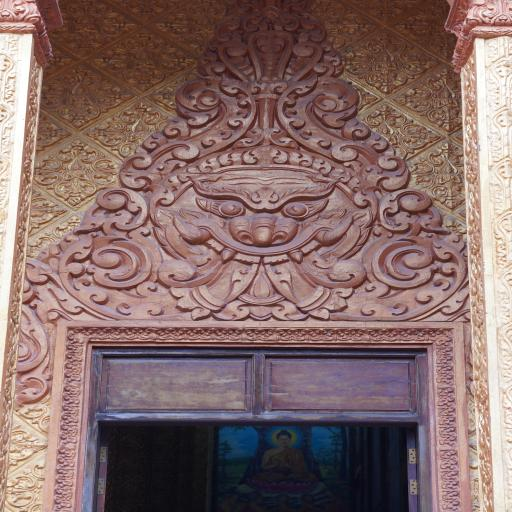la: (18, 302, 51, 376), (10, 423, 46, 464), (13, 372, 50, 406), (34, 116, 72, 149), (363, 71, 412, 94), (93, 44, 133, 72), (120, 66, 166, 90), (4, 476, 38, 508), (55, 138, 100, 162), (30, 198, 68, 226), (118, 99, 162, 123), (54, 180, 96, 205), (58, 103, 102, 126), (424, 108, 470, 130), (158, 46, 194, 74), (63, 63, 103, 88), (402, 122, 439, 149), (88, 120, 126, 146), (63, 32, 107, 54), (122, 30, 166, 52), (95, 82, 132, 108), (31, 156, 62, 187), (99, 11, 138, 35), (365, 104, 407, 126), (430, 186, 472, 208), (397, 86, 432, 112), (90, 157, 122, 185), (362, 0, 411, 18), (366, 33, 406, 55), (426, 143, 466, 165), (426, 35, 464, 58), (157, 13, 193, 37), (0, 0, 39, 22), (398, 12, 427, 41), (427, 68, 463, 91), (126, 0, 170, 18), (342, 13, 375, 37), (401, 50, 434, 74), (342, 48, 371, 75), (27, 236, 59, 260), (185, 0, 229, 17), (52, 214, 83, 238), (44, 45, 72, 71), (152, 85, 182, 109), (308, 0, 348, 18), (66, 0, 108, 17), (408, 162, 436, 186), (49, 10, 72, 38), (40, 83, 66, 107), (425, 0, 456, 18), (186, 33, 216, 51), (19, 404, 49, 421), (442, 488, 461, 512), (436, 376, 456, 396), (435, 364, 453, 382), (443, 466, 457, 488), (441, 450, 457, 469), (119, 142, 139, 157), (233, 328, 258, 340), (354, 330, 379, 342), (267, 328, 288, 342), (438, 388, 454, 406), (437, 399, 455, 415), (439, 439, 455, 457), (323, 330, 349, 341), (190, 328, 210, 342), (338, 330, 361, 342), (439, 417, 456, 433), (438, 347, 453, 365), (65, 350, 84, 364), (205, 328, 224, 342), (173, 328, 195, 340), (280, 329, 302, 341), (298, 329, 320, 341), (309, 330, 333, 341), (386, 330, 408, 342), (440, 430, 456, 446), (439, 408, 454, 425), (328, 34, 346, 48), (144, 328, 166, 339), (402, 330, 424, 341), (56, 460, 76, 472), (69, 328, 89, 340), (128, 329, 148, 341), (59, 438, 76, 452), (31, 462, 45, 478), (116, 327, 132, 341), (435, 330, 451, 344), (62, 377, 80, 389), (86, 328, 104, 340), (164, 328, 182, 340), (374, 330, 392, 342), (61, 401, 82, 411), (417, 330, 436, 341), (64, 390, 80, 403), (61, 428, 78, 440), (64, 365, 81, 377), (102, 328, 119, 340), (55, 492, 73, 503), (67, 339, 85, 350), (59, 450, 75, 462), (220, 329, 236, 341), (60, 419, 77, 430), (55, 502, 73, 512), (250, 330, 268, 340), (56, 482, 72, 493), (56, 472, 72, 483), (61, 411, 79, 420)
than: (36, 0, 488, 323), (250, 430, 321, 482), (372, 48, 404, 74), (430, 84, 462, 110), (65, 82, 98, 107), (126, 117, 154, 144), (132, 44, 158, 70), (64, 158, 91, 183), (71, 11, 100, 34), (435, 161, 464, 184), (194, 13, 220, 38), (434, 12, 458, 36), (374, 121, 398, 143)
